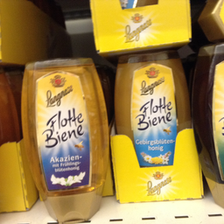honey: (16, 59, 108, 222), (112, 53, 196, 177)
